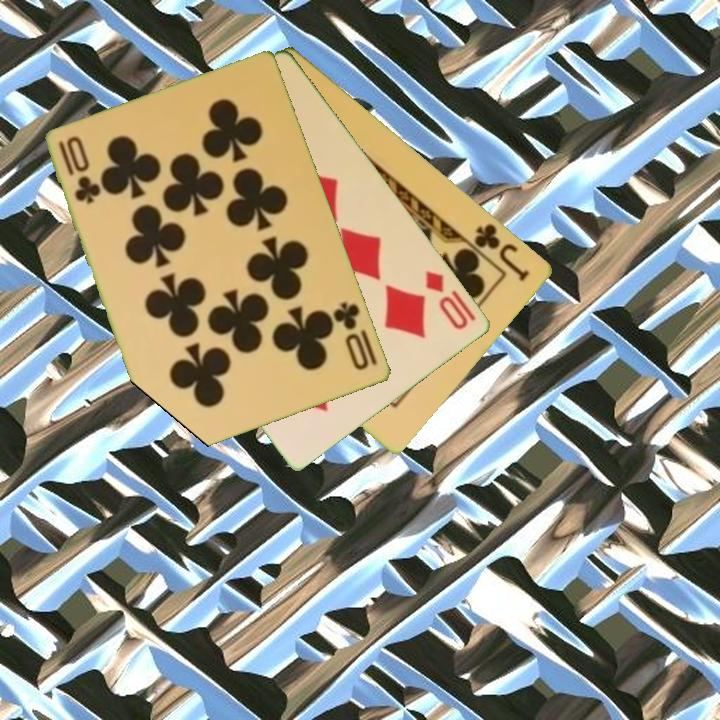10c: (55, 137, 103, 208), (330, 298, 372, 374)
10d: (422, 266, 480, 333)
Jc: (471, 220, 534, 285)
